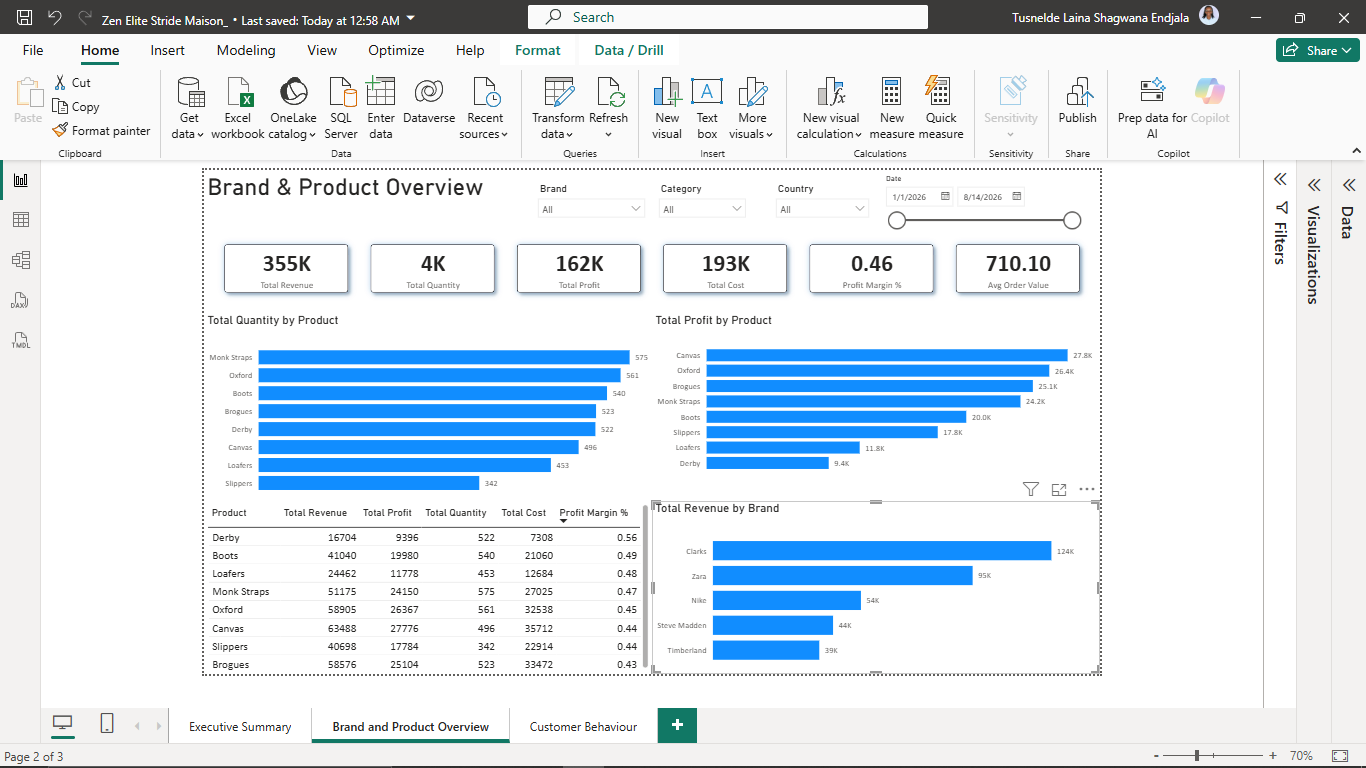

The page's visual inventory and layout, read from the dashboard file:
{"tool":"powerbi","page":{"name":"Brand and Product Overview","canvas":[1280,720],"ordinal":1},"visuals":[{"type":"cardVisual","fields":{"Data":["Measure Table.Total Revenue","Measure Table.Total Quantity","Measure Table.Total Profit","Measure Table.Total Cost","Measure Table.Profit Margin %","Measure Table.Avg Order Value"]},"box":[0,77.1,1280,127.1],"z":0},{"type":"textbox","box":[0,0,420,62.9],"z":1},{"type":"clusteredBarChart","fields":{"Category":["Shoe Sales.Product"],"Y":["Measure Table.Total Quantity"]},"box":[0,204.3,640,268.6],"z":2},{"type":"clusteredBarChart","fields":{"Category":["Shoe Sales.Product"],"Y":["Measure Table.Total Profit"]},"box":[640,204.3,640,237],"z":3},{"type":"tableEx","fields":{"Values":["Shoe Sales.Product","Measure Table.Total Revenue","Measure Table.Total Profit","Measure Table.Total Quantity","Measure Table.Total Cost","Measure Table.Profit Margin %"]},"box":[0,472.9,640,247.1],"z":4},{"type":"clusteredBarChart","fields":{"Category":["Shoe Sales.Brand"],"Y":["Measure Table.Total Revenue"]},"box":[640,473,640,247],"z":5},{"type":"slicer","fields":{"Values":["Shoe Sales.Date"]},"box":[961.4,0,300,88.6],"z":6},{"type":"slicer","fields":{"Values":["Shoe Sales.Brand"]},"box":[467.1,12.9,173,63.8],"z":7},{"type":"slicer","fields":{"Values":["Shoe Sales.Category"]},"box":[640,12.9,144.5,63.8],"z":8},{"type":"slicer","fields":{"Values":["Shoe Sales.Country"]},"box":[807.1,12.9,152.9,63.8],"z":9}]}

Visuals, with their boxes on the page's 1280x720 design canvas (x1, y1, x2, y2). These are canvas units, not pixel positions in the 1366x768 screenshot, which may show the page scaled, cropped or inside an application window:
cardVisual - Measure Table.Total Revenue x Measure Table.Total Quantity: region(0, 77, 1280, 204)
textbox: region(0, 0, 420, 63)
clusteredBarChart - Shoe Sales.Product x Measure Table.Total Quantity: region(0, 204, 640, 473)
clusteredBarChart - Shoe Sales.Product x Measure Table.Total Profit: region(640, 204, 1280, 441)
tableEx - Shoe Sales.Product x Measure Table.Total Revenue: region(0, 473, 640, 720)
clusteredBarChart - Shoe Sales.Brand x Measure Table.Total Revenue: region(640, 473, 1280, 720)
slicer - Shoe Sales.Date: region(961, 0, 1261, 89)
slicer - Shoe Sales.Brand: region(467, 13, 640, 77)
slicer - Shoe Sales.Category: region(640, 13, 784, 77)
slicer - Shoe Sales.Country: region(807, 13, 960, 77)
